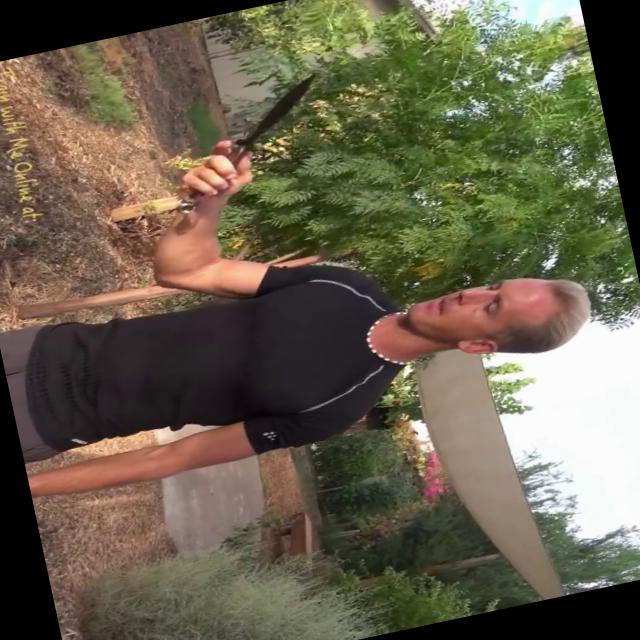knife: (158, 69, 336, 206)
